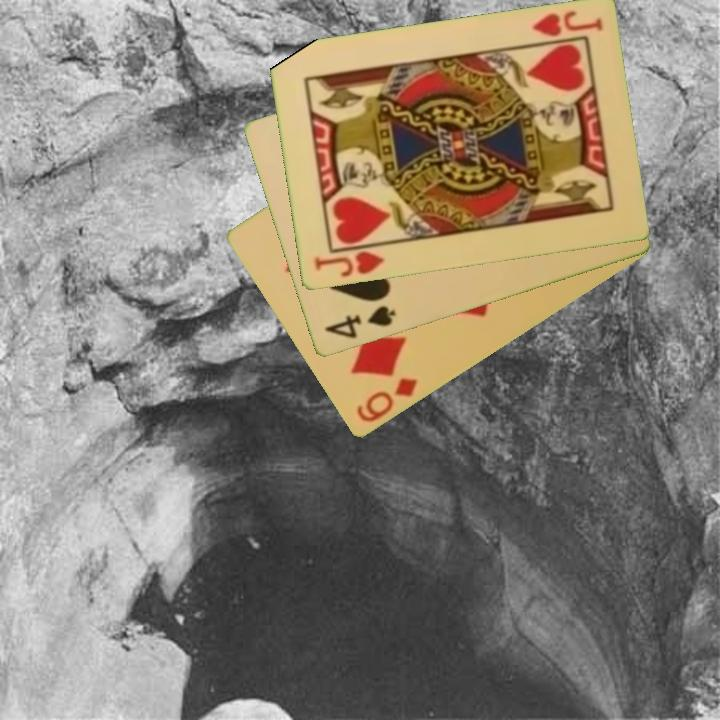4s: (320, 302, 399, 342)
6d: (353, 374, 420, 426)
Jh: (310, 248, 387, 281), (528, 8, 605, 41)
